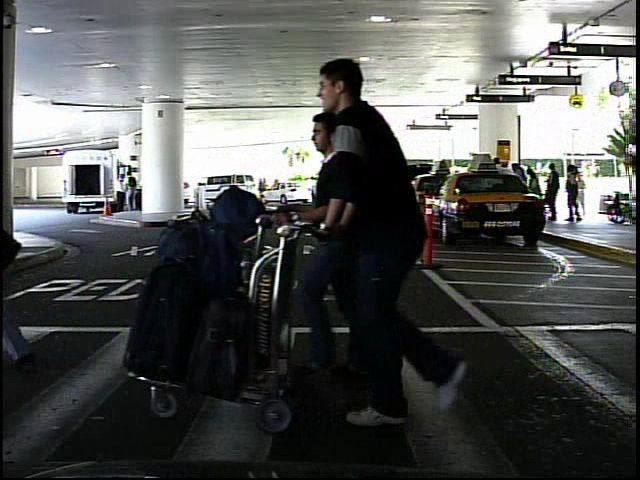person: (319, 48, 500, 427), (289, 112, 371, 385), (577, 172, 596, 218), (114, 172, 129, 214)
